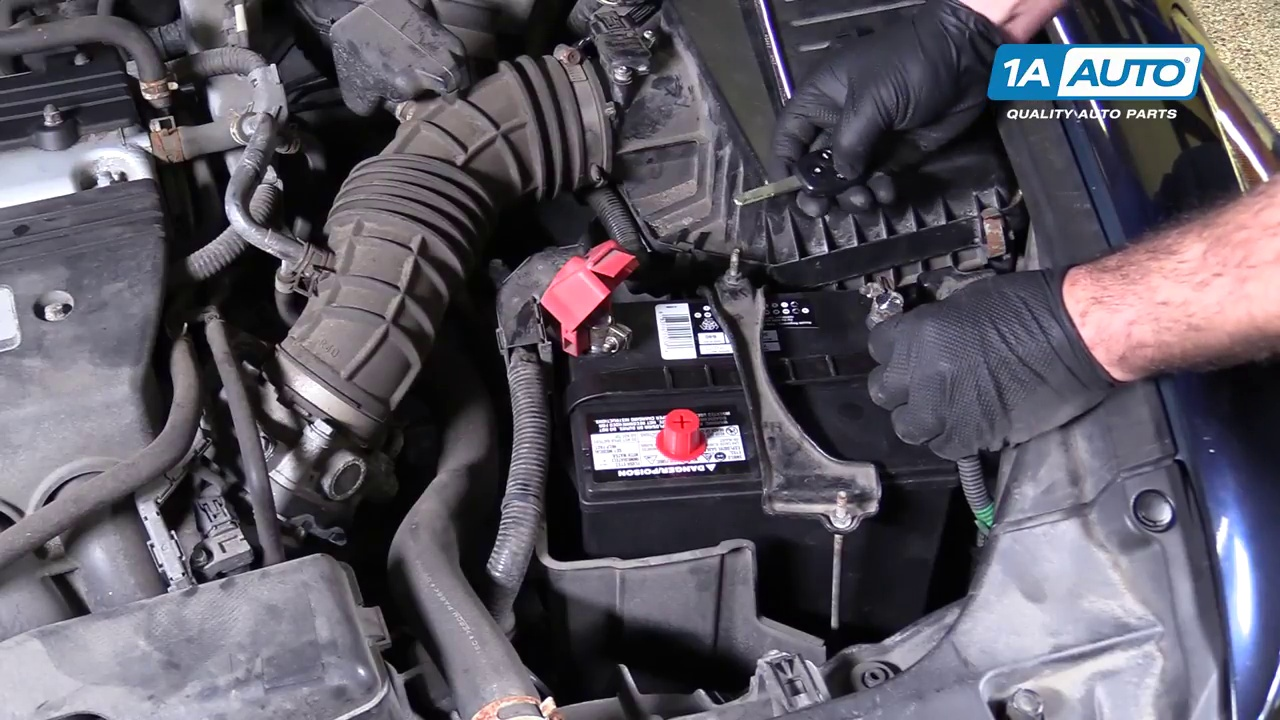battery: (543, 262, 978, 479)
neg_touched: (827, 246, 928, 364)
pos_connected: (519, 236, 653, 365)
